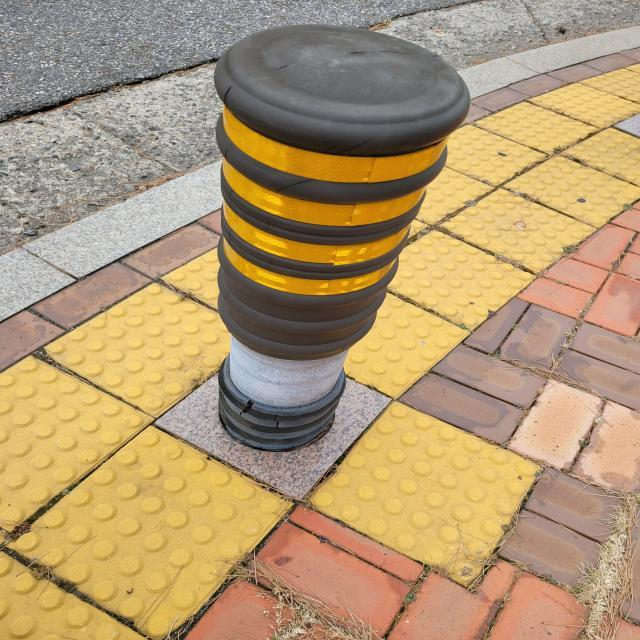pole: (206, 26, 465, 450)
